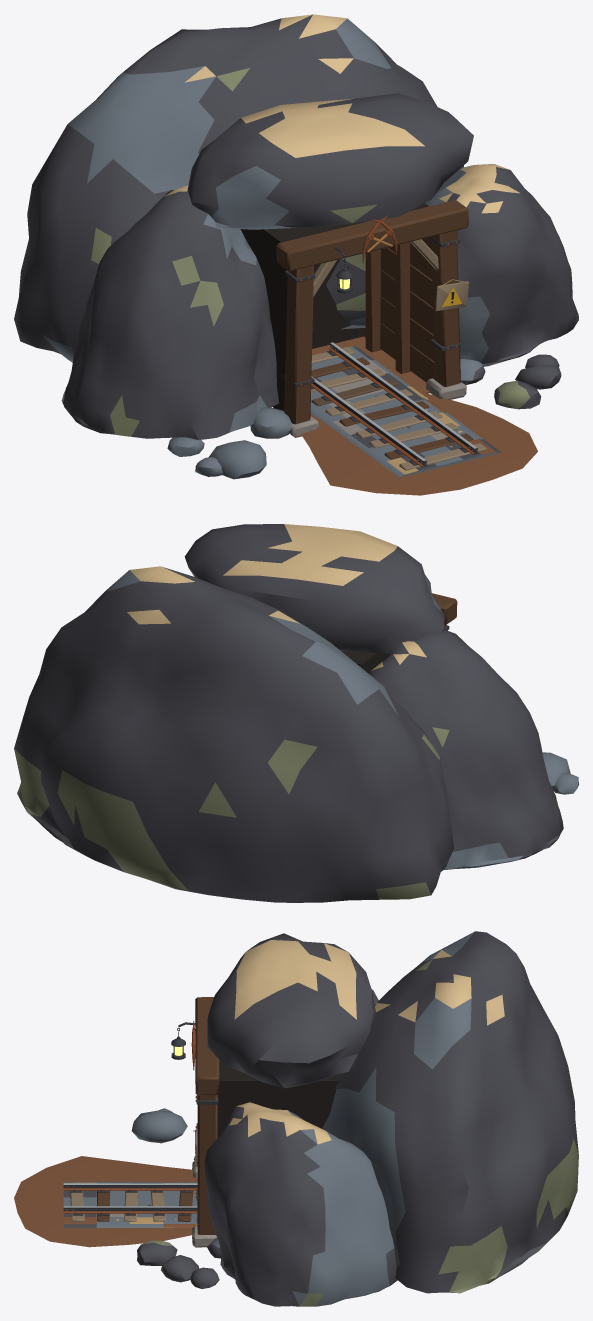
File: deco_mine_entrance.fbx
3 renders of one model, top to bottom at view 1: azimuth 30°, elevation 25°; view 2: azimuth 150°, elevation 25°; view 3: azimuth 270°, elevation 25°, orthographic. The views are drawn at different scales.
Visible parts, largest first — view 1: MineEntrance_Rock, MineEntrance_Portal, MineEntrance_Tunnel, MineEntrance_Rails, MineEntrance_Sign; view 2: MineEntrance_Rock, MineEntrance_Tunnel, MineEntrance_Portal; view 3: MineEntrance_Rock, MineEntrance_Rails, MineEntrance_Portal, MineEntrance_Tunnel.
Part boxes in pixels (bbox=[...]): MineEntrance_Rock: bbox=[14, 14, 578, 495]; MineEntrance_Portal: bbox=[276, 200, 468, 437]; MineEntrance_Tunnel: bbox=[240, 203, 434, 410]; MineEntrance_Rails: bbox=[310, 342, 501, 477]; MineEntrance_Sign: bbox=[435, 277, 468, 311]; MineEntrance_Rock: bbox=[14, 524, 578, 902]; MineEntrance_Tunnel: bbox=[341, 650, 390, 673]; MineEntrance_Portal: bbox=[431, 593, 457, 630]; MineEntrance_Rock: bbox=[14, 931, 578, 1306]; MineEntrance_Rails: bbox=[63, 1181, 197, 1227]; MineEntrance_Portal: bbox=[191, 997, 219, 1247]; MineEntrance_Tunnel: bbox=[217, 1060, 340, 1137].
Size of the model in its own units: 963 by 529 by 1040.
